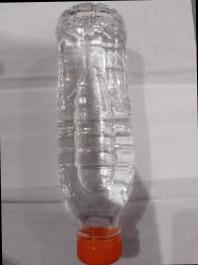Plastik: (56, 1, 134, 264)
